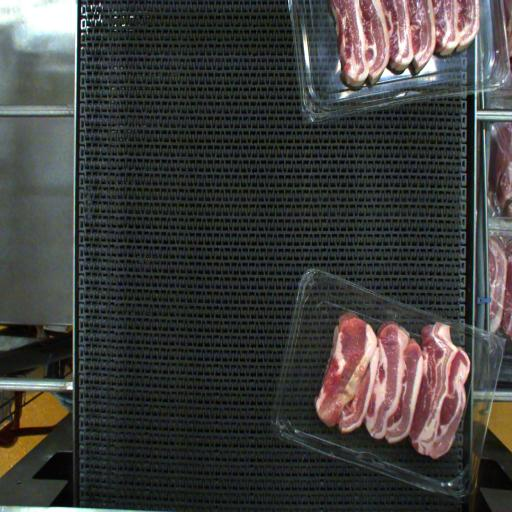packaging-error: (426, 296, 458, 354)
